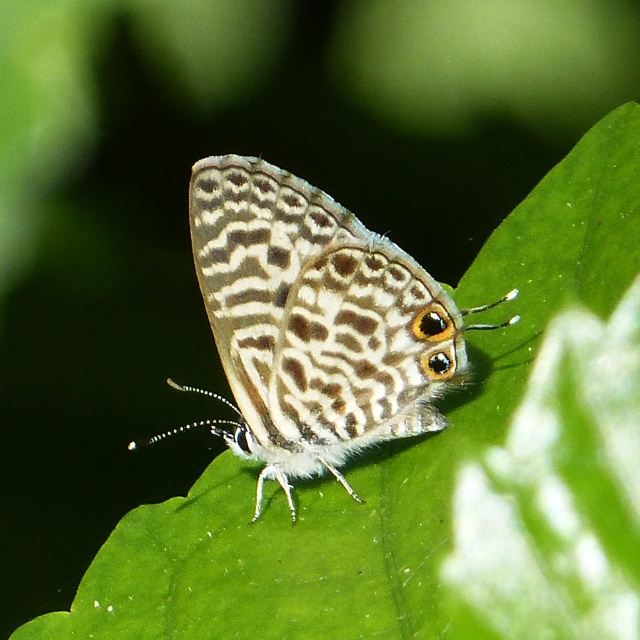Butterfly: (129, 139, 490, 537)
